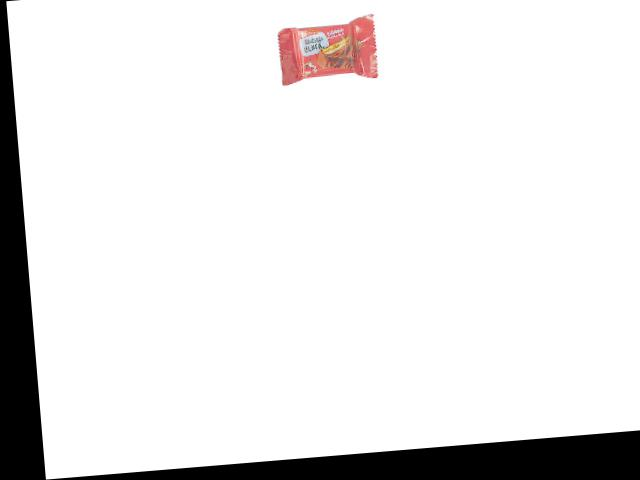chocolate: (267, 7, 379, 85)
